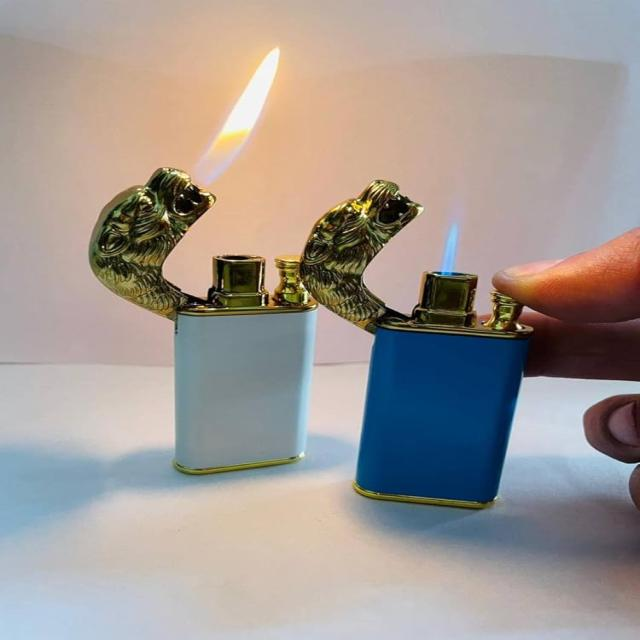fire: (186, 47, 280, 189)
